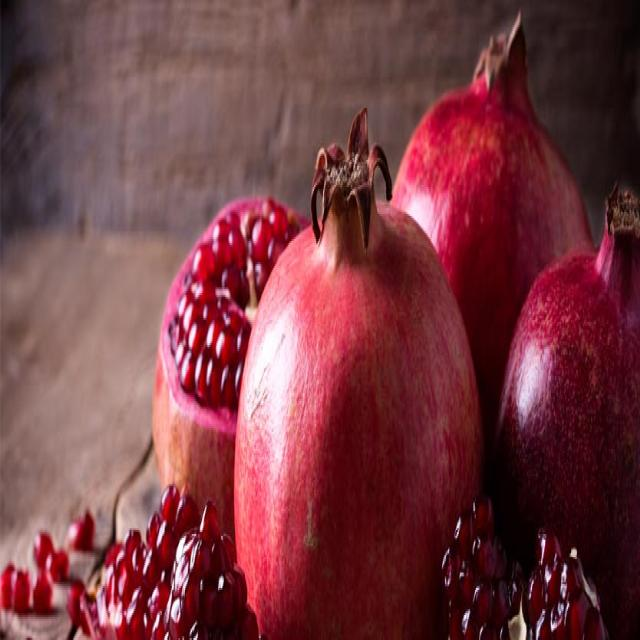apple: (233, 102, 487, 640), (390, 19, 598, 367), (500, 181, 640, 596)
